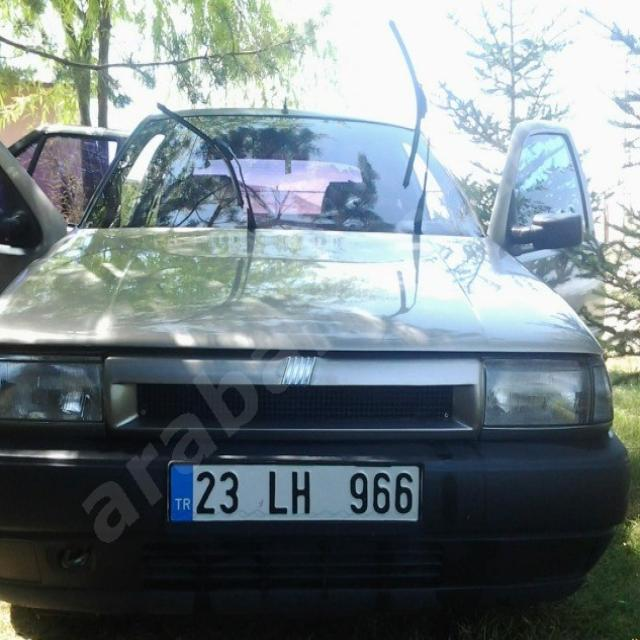license_plate: (166, 461, 422, 524)
